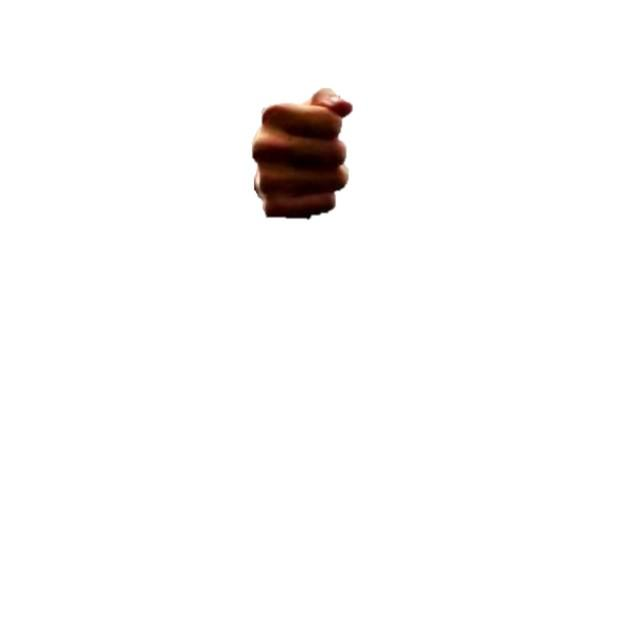gu-: (250, 87, 353, 222)
